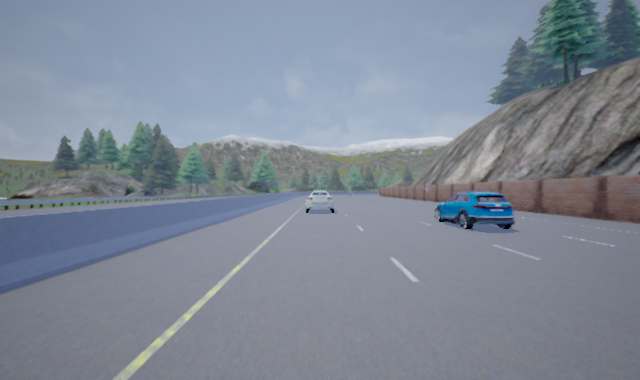vehicle: (433, 190, 514, 229), (305, 190, 334, 213)
